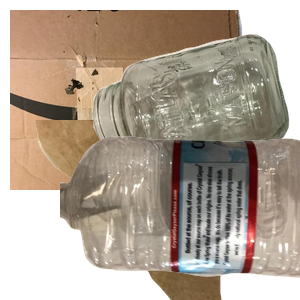cardboard: (10, 10, 245, 190)
glass: (91, 32, 300, 189)
plastic: (60, 134, 300, 300)
trash: (32, 120, 248, 300)
